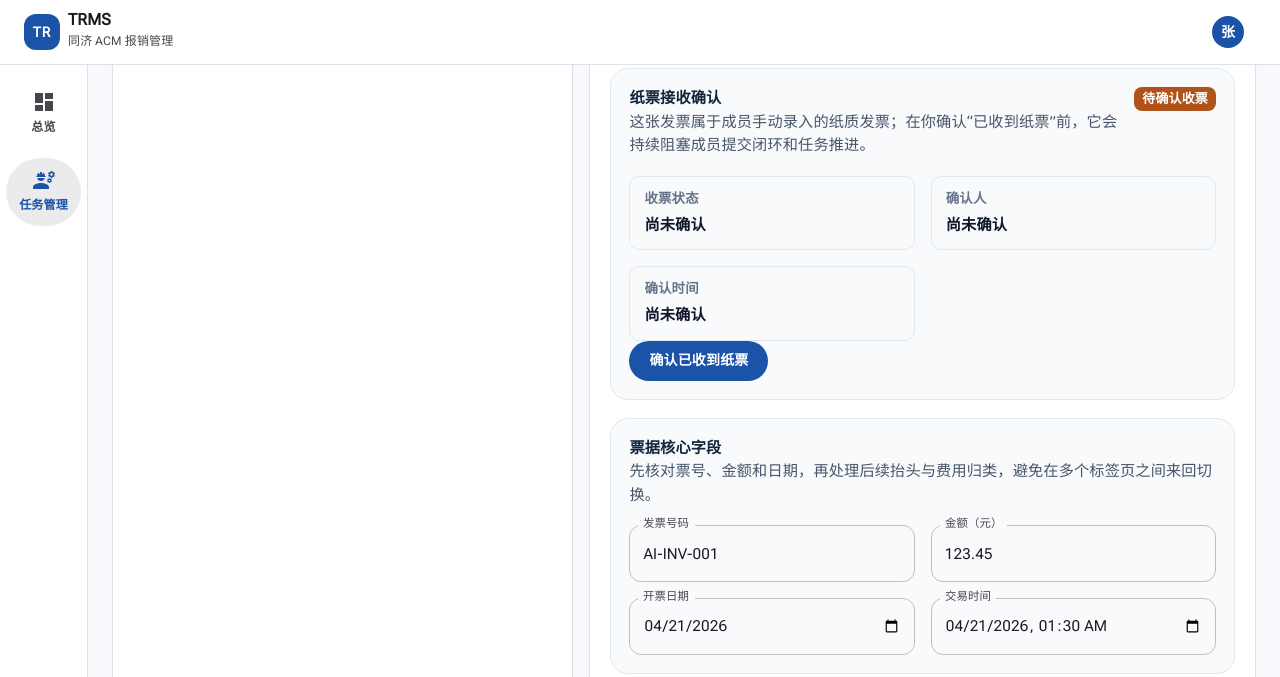
Test case: admin invoice editor page › allows administrators to confirm receipt for paper invoices
(page scrolled)
Expected: the heading "纸票接收确认" is shown, [630, 89, 722, 107]
Step 1. Click the button "确认已收到纸票" → (699, 361), box [630, 341, 768, 381]
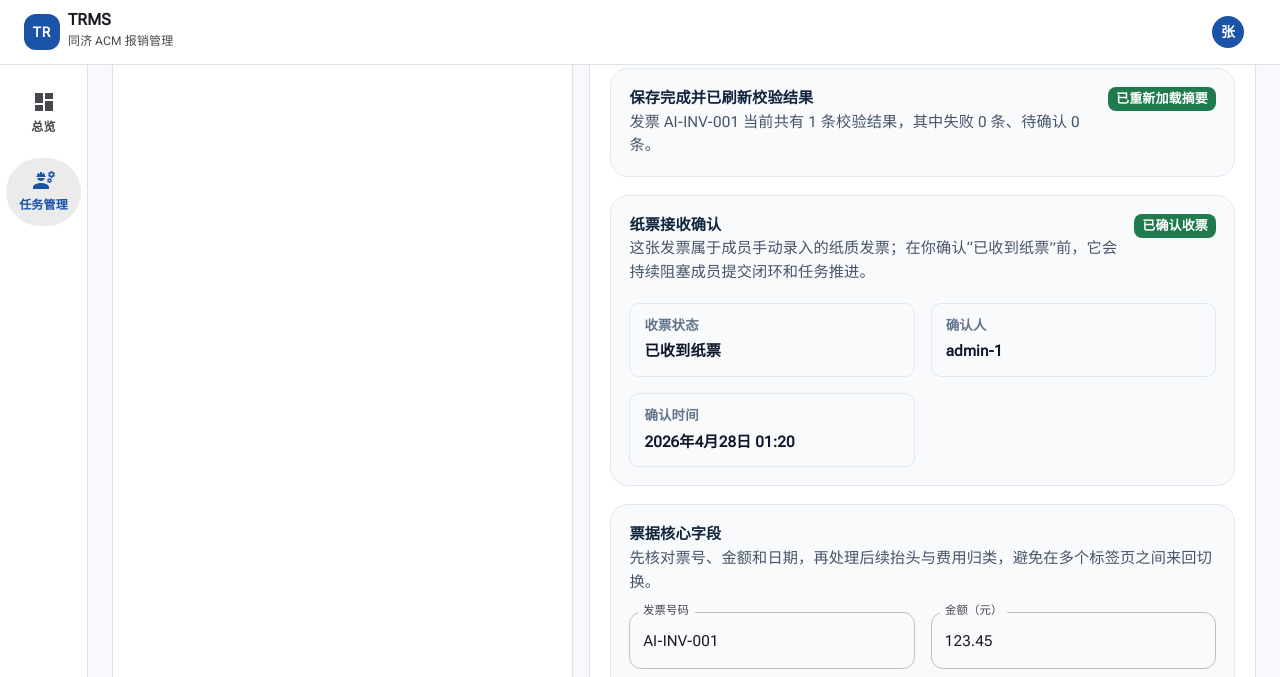
Expected: the text "已确认收票" is shown, [1142, 218, 1208, 233]
